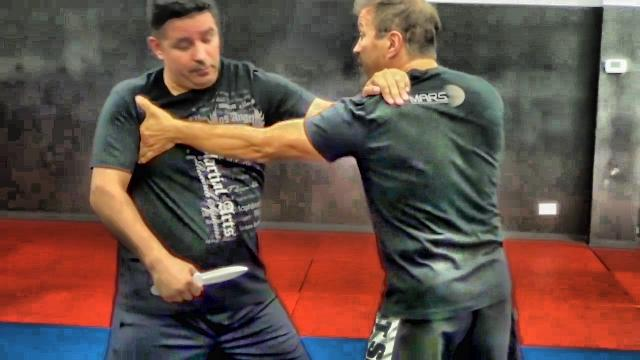knife: (147, 261, 251, 301)
